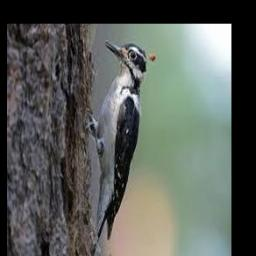Woodpecker: (86, 41, 156, 250)
